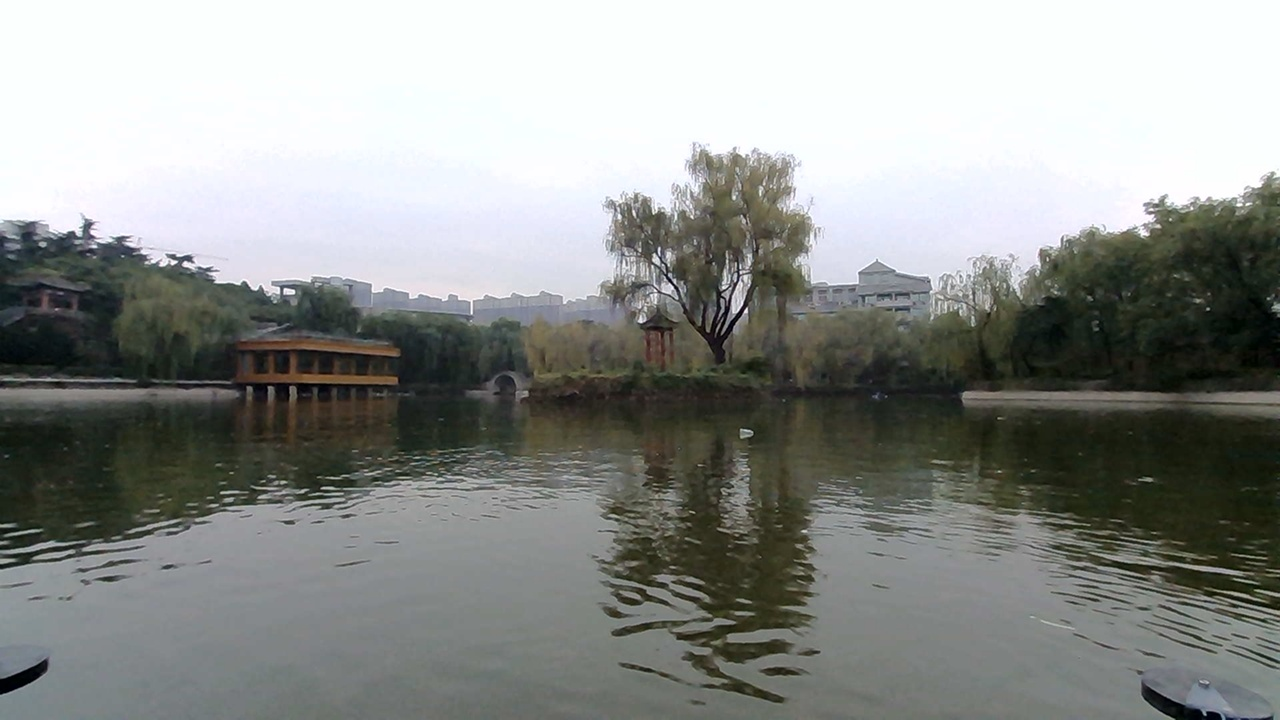bottle: (729, 413, 784, 445)
